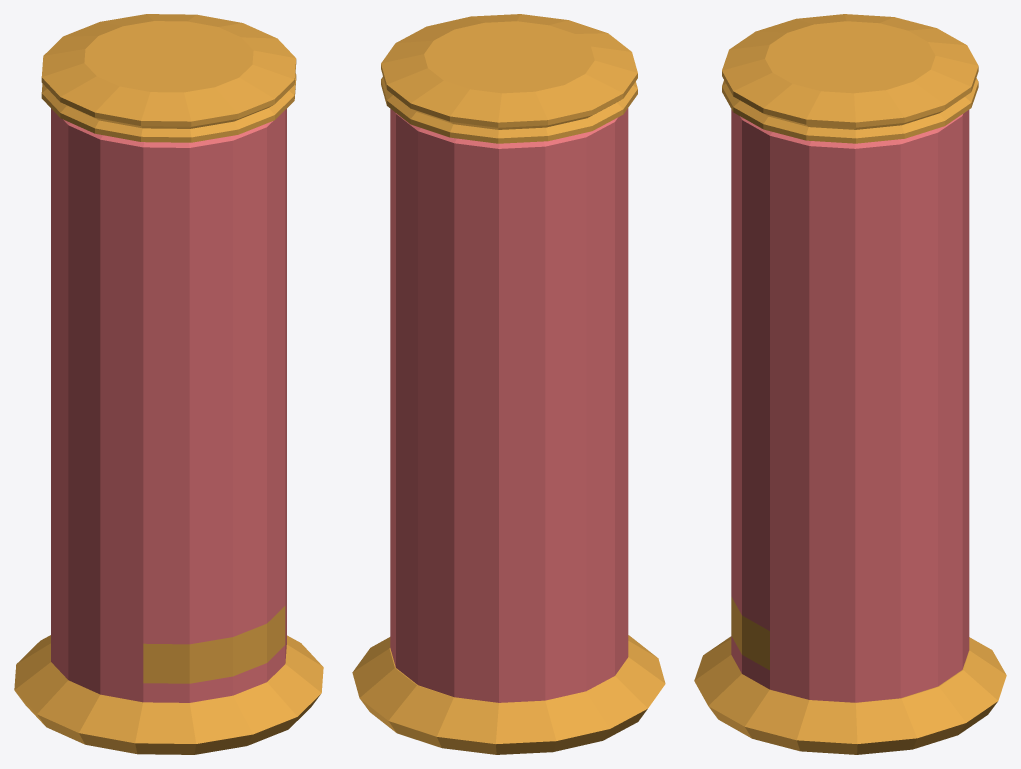
File: SM_Tank_Squid.fbx
3 views of the same model, side by side, from view 1: azimuth 30°, elevation 25°; view 2: azimuth 150°, elevation 25°; view 3: azimuth 270°, elevation 25° (orthographic).
Visible parts, largest first — view 1: tank-squid; view 2: tank-squid; view 3: tank-squid.
Part boxes in pixels (x1=…): tank-squid: x1=14, y1=14, x2=323, y2=754; tank-squid: x1=352, y1=14, x2=665, y2=754; tank-squid: x1=694, y1=14, x2=1006, y2=754.
Bounding box in the file's own units: 2.34 × 5.26 × 2.34.
